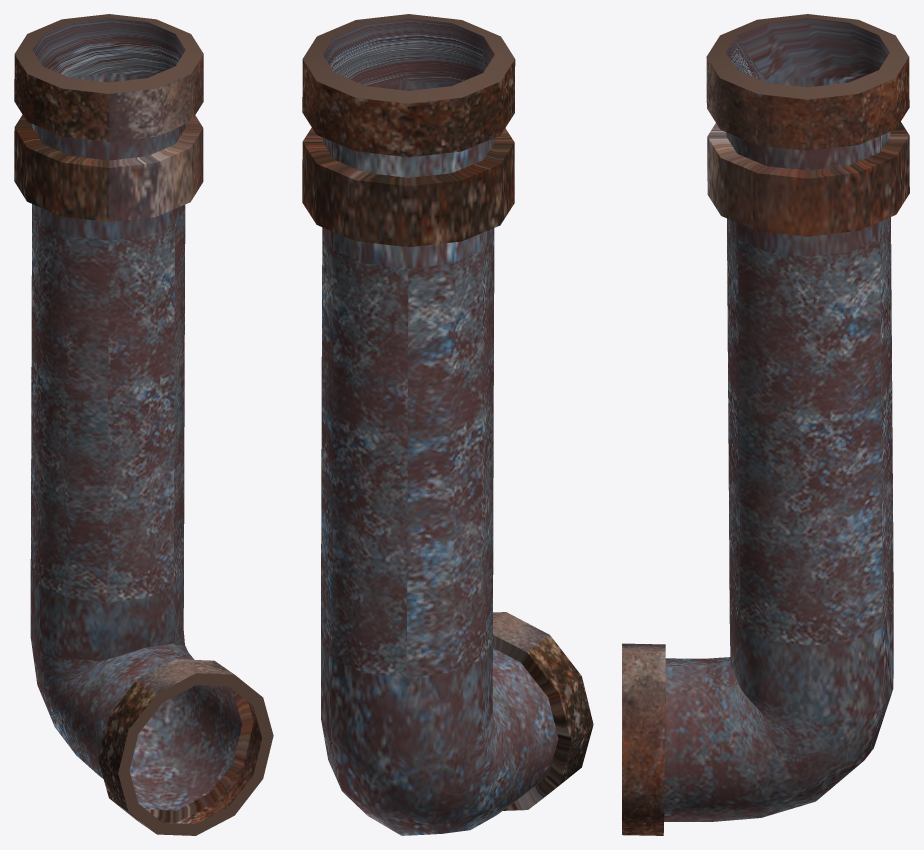
Rendered from TPM 1_FBX.fbx.
The picture shows the model from 3 angles, left to right: view 1: azimuth 30°, elevation 25°; view 2: azimuth 150°, elevation 25°; view 3: azimuth 270°, elevation 25°; orthographic projection. The views are drawn at different scales.
Parts seen in each view (by area): view 1: Tubería móvil 1; view 2: Tubería móvil 1; view 3: Tubería móvil 1.
Part boxes in pixels (<box>): Tubería móvil 1: <box>14,14,273,835</box>; Tubería móvil 1: <box>302,14,593,835</box>; Tubería móvil 1: <box>622,14,909,835</box>.
Bounding box in the file's own units: 247 × 1042 × 351.
